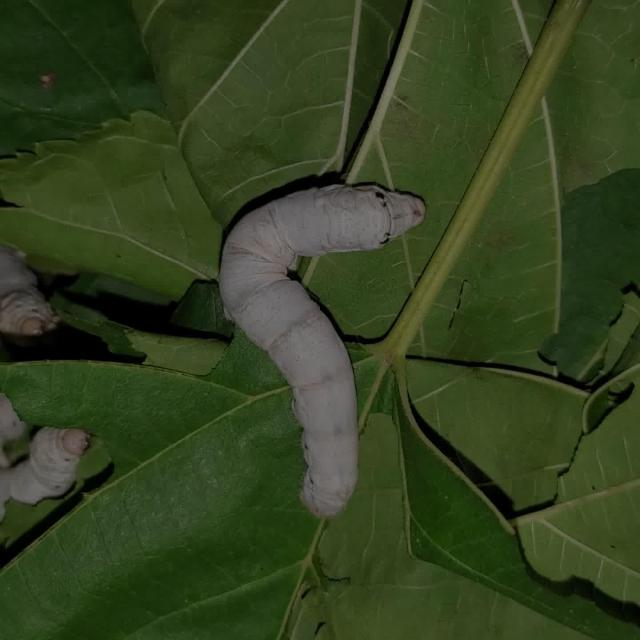Healthy: (213, 169, 428, 519)
